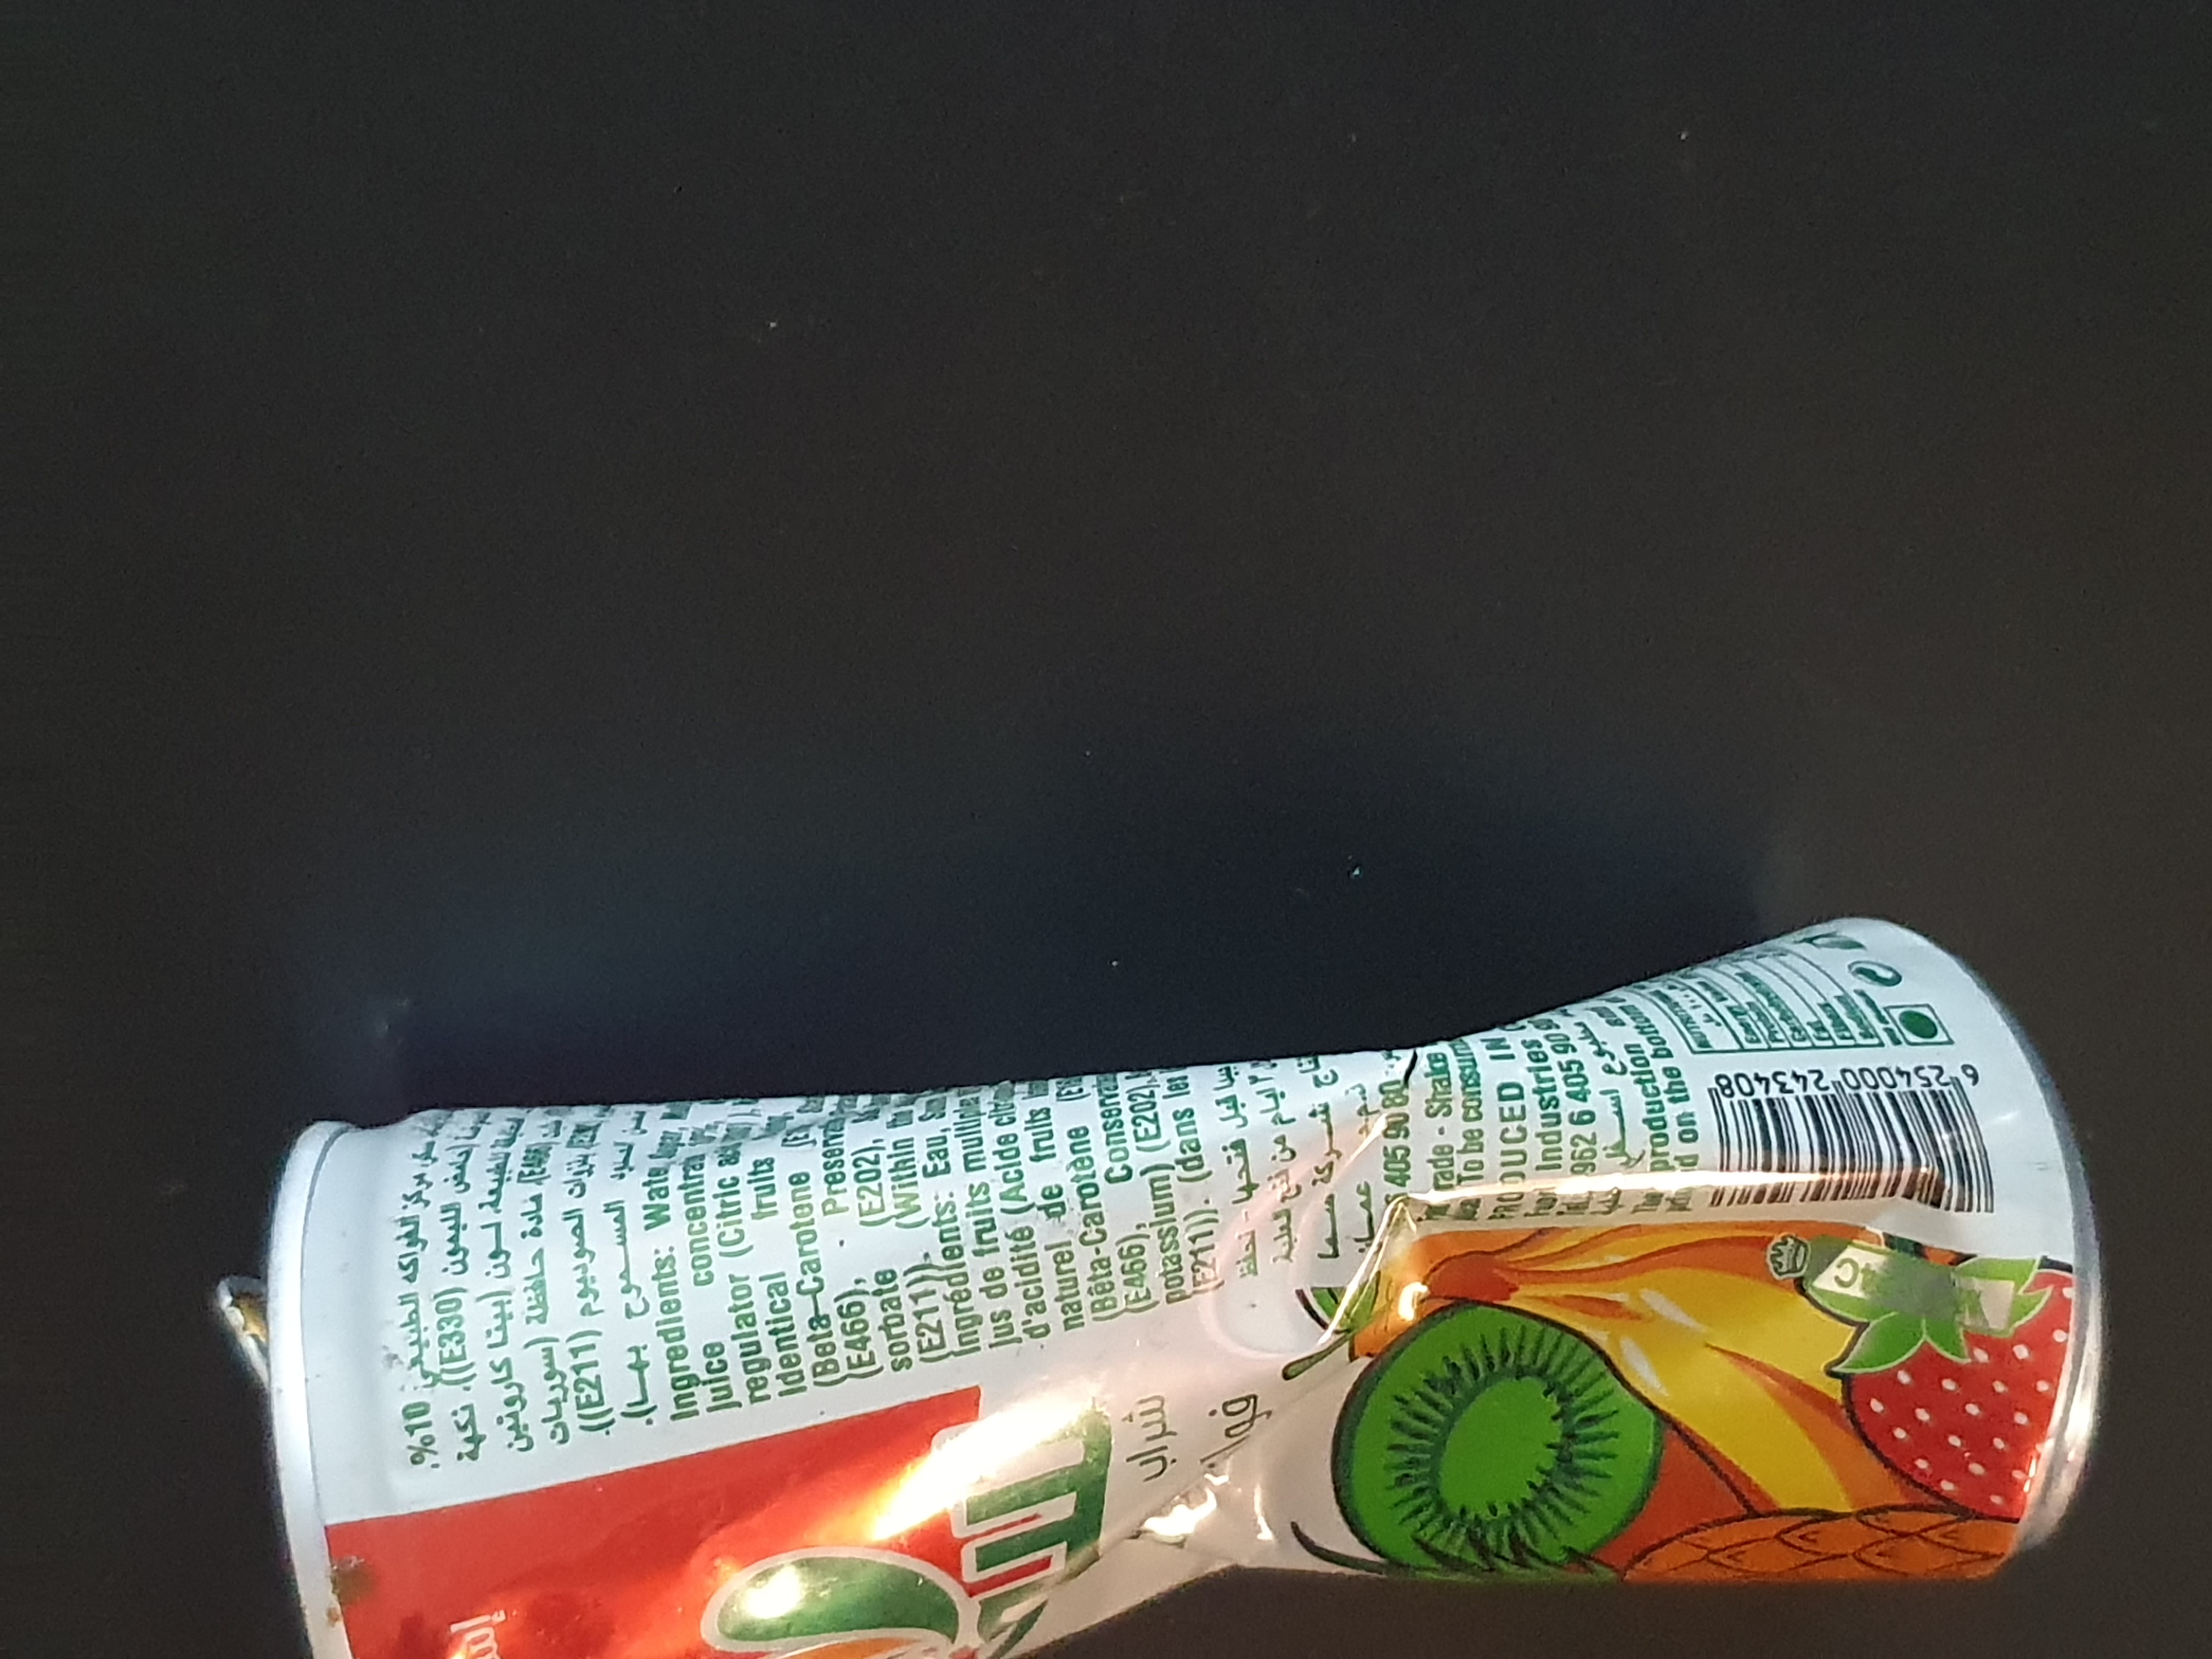metal: (146, 882, 2135, 1659)
